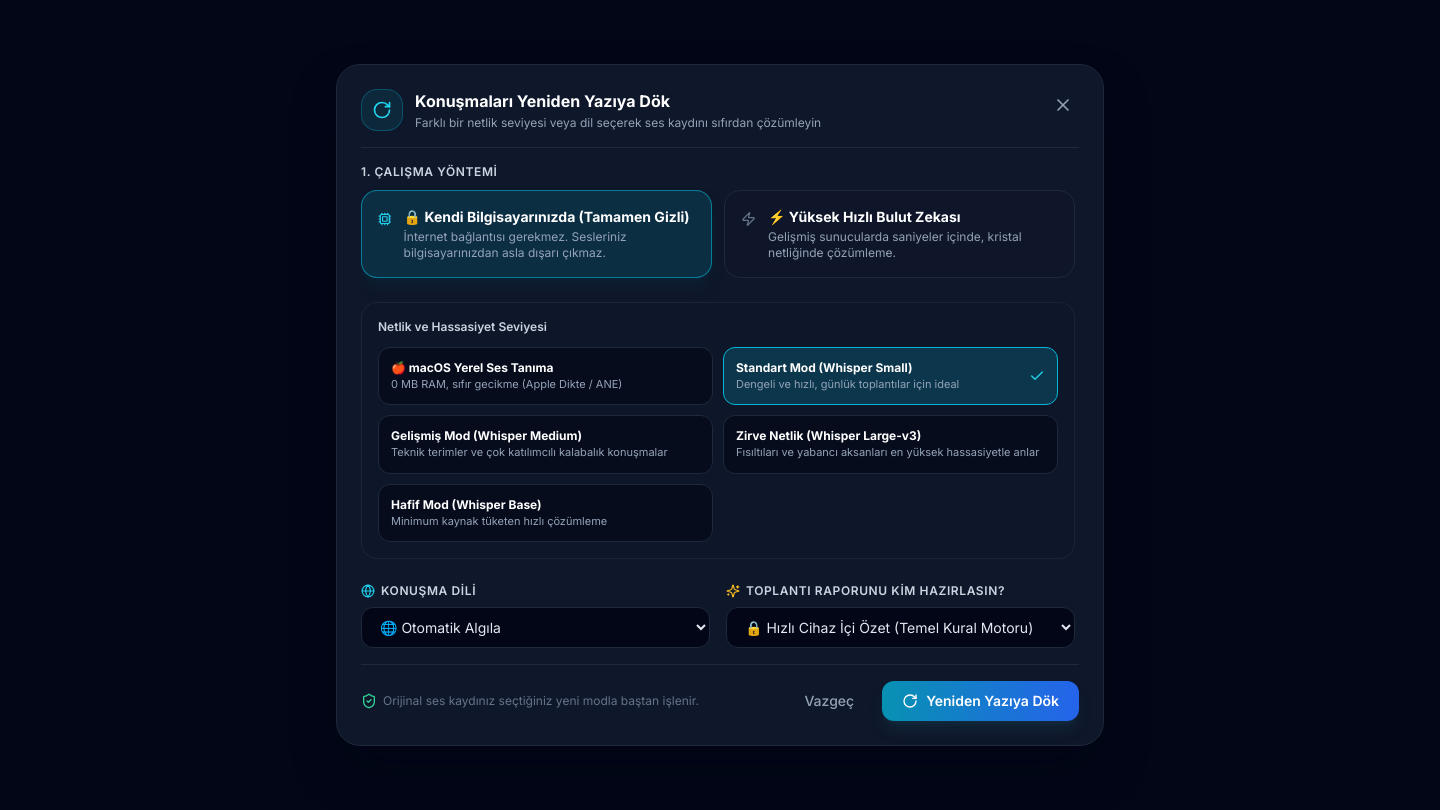
Test: RetranscribeModal Component › shows error when cloud API key is missing
Click the text "⚡ Yüksek Hızlı Bulut Zekası" at (864,217), box [768, 207, 961, 227]
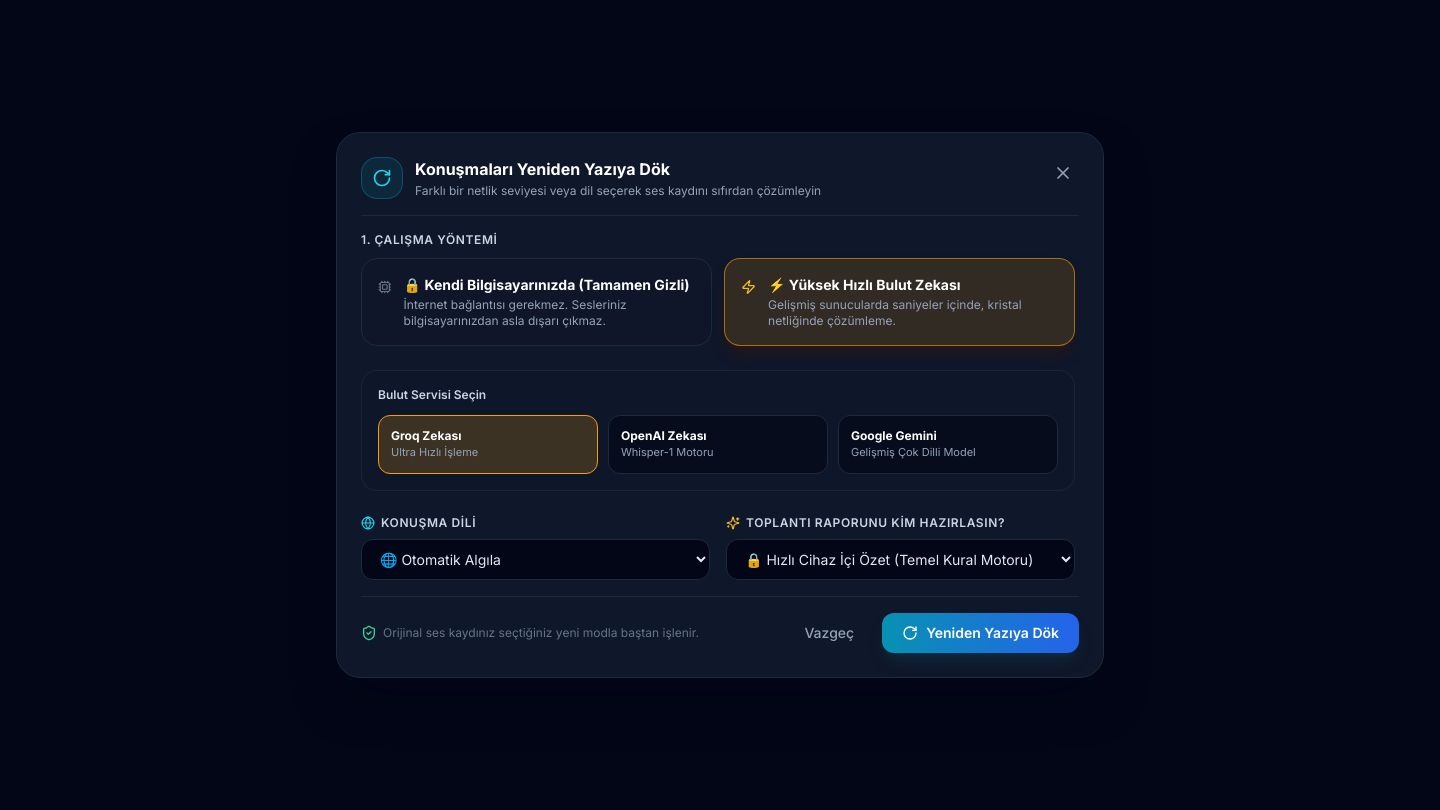
Click the button "Yeniden Yazıya Dök" at (981,633), box [882, 613, 1079, 653]
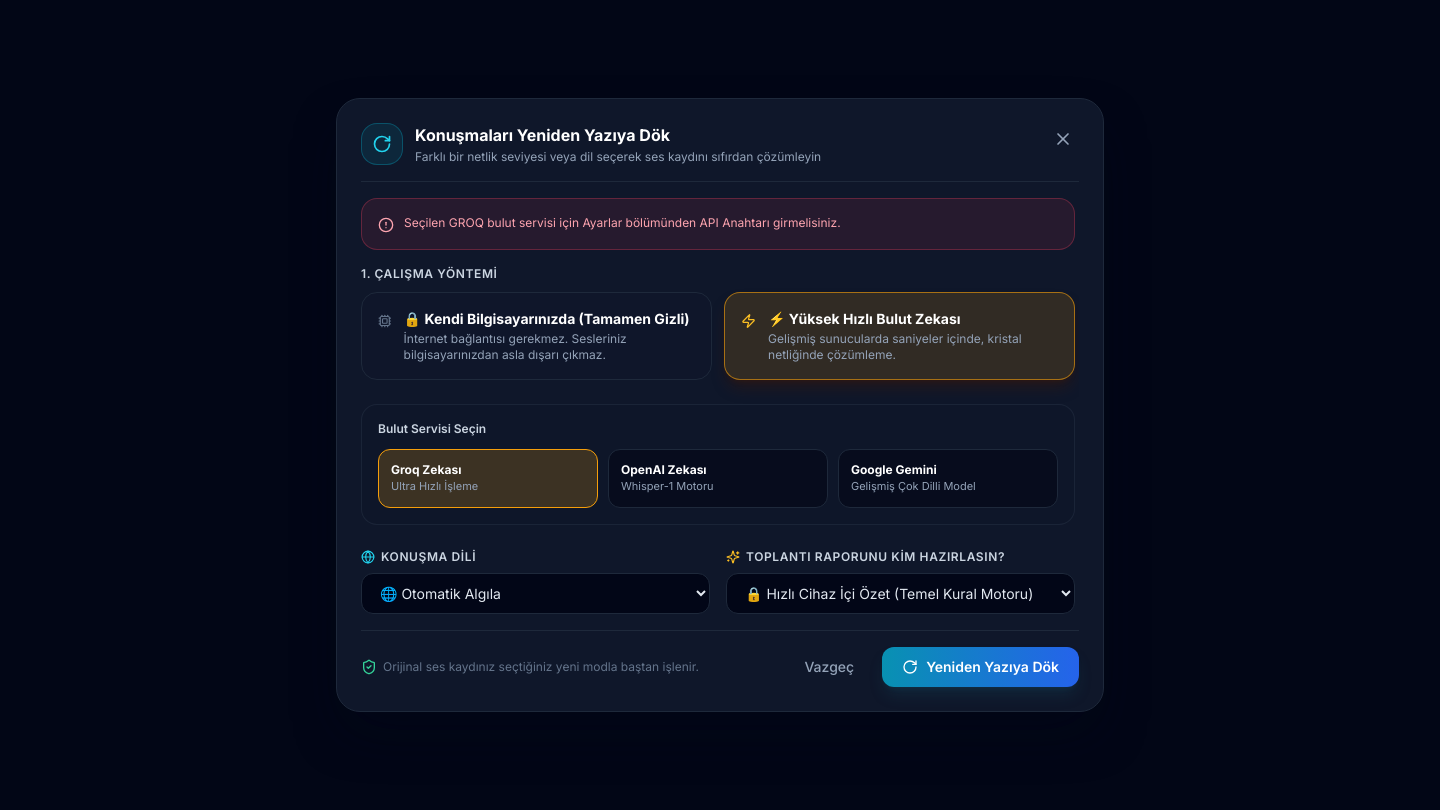
Now the text "API Anahtarı girmelisiniz" is shown, box [404, 215, 841, 230]
